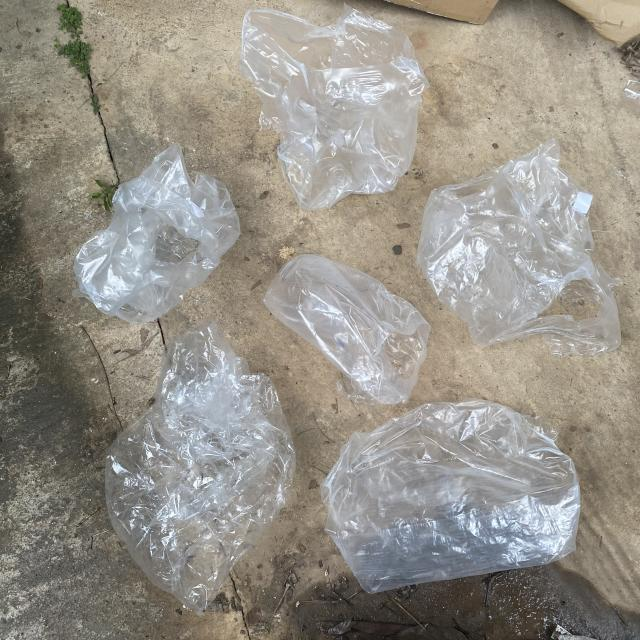Single-layer Plastic: (105, 319, 295, 614), (321, 399, 580, 592), (418, 139, 621, 356), (238, 6, 429, 210), (74, 142, 240, 324), (264, 255, 431, 404)
